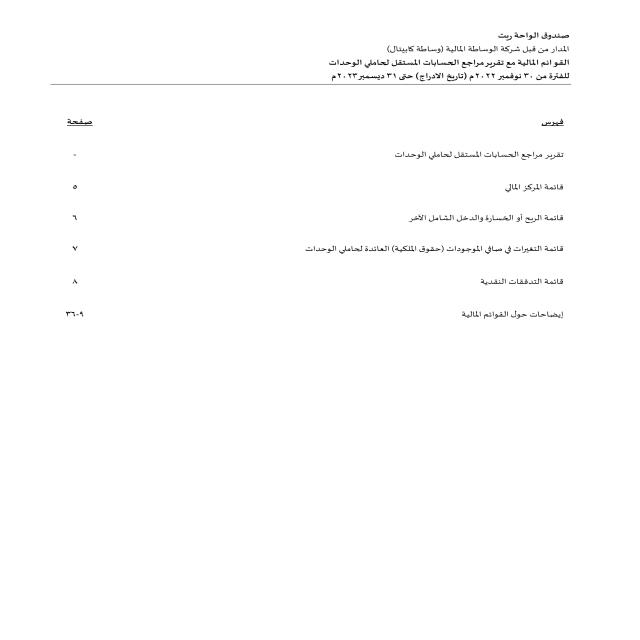other: (35, 96, 598, 354)
